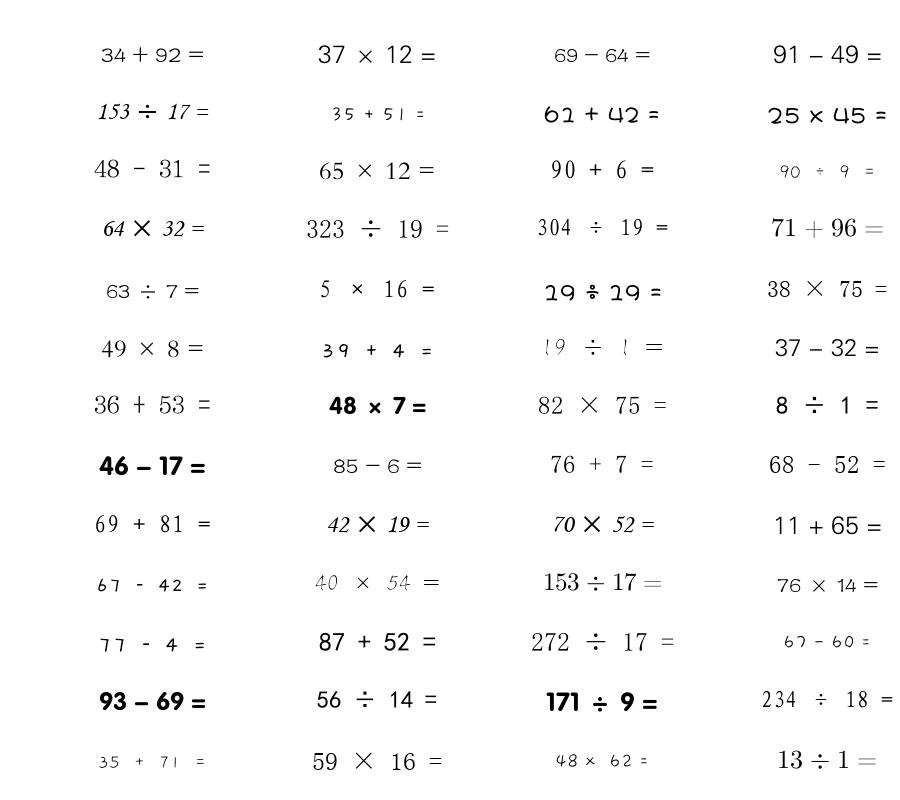MQ: (306, 219, 449, 238), (531, 632, 674, 651), (536, 218, 668, 236), (761, 690, 893, 708), (771, 218, 884, 239), (312, 752, 442, 770), (538, 396, 667, 414), (318, 45, 436, 64), (546, 692, 658, 712), (94, 159, 211, 178), (94, 395, 211, 414), (319, 632, 436, 651), (543, 573, 662, 591), (99, 456, 206, 476), (99, 691, 206, 711), (94, 515, 211, 533), (319, 162, 435, 180), (319, 280, 435, 298), (541, 339, 663, 356), (773, 45, 882, 64), (773, 516, 882, 535), (767, 107, 887, 124), (767, 280, 887, 297), (317, 691, 437, 708), (543, 284, 662, 301), (315, 575, 440, 591), (769, 456, 886, 473), (550, 160, 654, 179), (544, 106, 660, 123), (96, 103, 209, 120), (777, 750, 877, 769), (775, 339, 880, 357), (550, 455, 654, 473), (101, 340, 204, 358), (776, 396, 879, 414), (329, 396, 426, 415), (101, 46, 204, 63), (101, 220, 204, 237), (326, 516, 429, 533), (551, 516, 654, 533), (95, 578, 209, 592), (321, 344, 434, 358), (98, 638, 207, 652), (777, 578, 878, 593), (554, 48, 650, 63), (330, 107, 425, 122), (98, 756, 207, 769), (106, 284, 199, 299), (779, 165, 876, 179), (555, 754, 649, 768), (333, 459, 422, 473), (783, 635, 871, 649)
